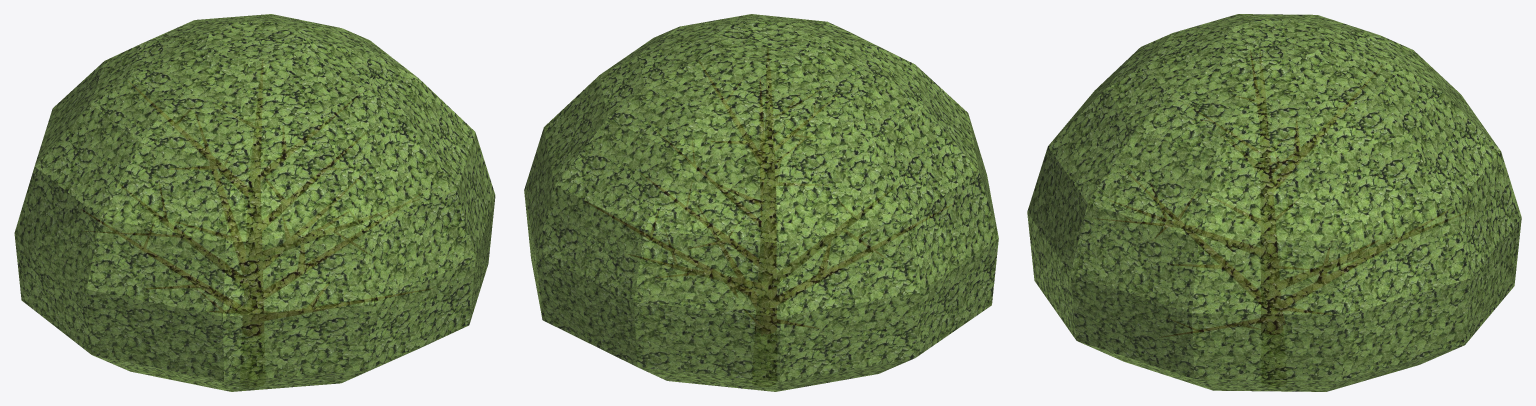
File: tree.dae
The picture shows the model from 3 angles, left to right: view 1: azimuth 30°, elevation 25°; view 2: azimuth 150°, elevation 25°; view 3: azimuth 270°, elevation 25°; orthographic projection.
Visible parts, largest first — view 1: group_0, trunk_1 (×10), trunk; view 2: group_0, trunk_1 (×7), trunk; view 3: group_0, trunk_1 (×5), trunk.
Part boxes in pixels (x1,y1,x2,y2): group_0: [14, 14, 495, 391]; trunk_1 (×10): [81, 81, 429, 320]; trunk: [242, 58, 263, 335]; group_0: [524, 14, 998, 391]; trunk_1 (×7): [585, 61, 954, 305]; trunk: [755, 48, 776, 333]; group_0: [1027, 14, 1521, 391]; trunk_1 (×5): [1109, 66, 1468, 306]; trunk: [1259, 52, 1282, 334].
Size of the model in its own units: 644 by 671 by 516.
Materials: 2 (1 with a texture image).
